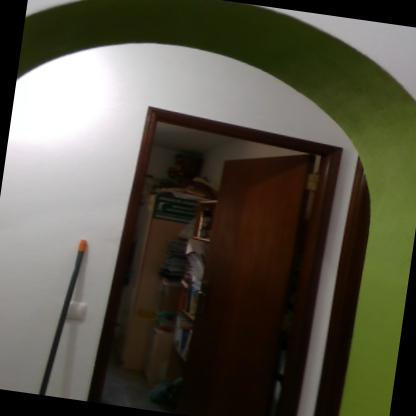semi: (78, 82, 371, 415)
